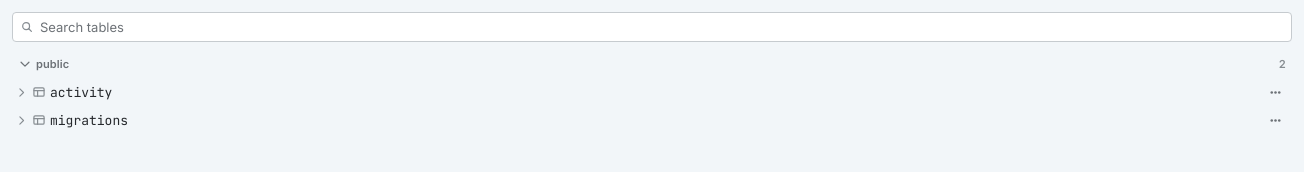
Scenario: TableList › filters tables by a case-insensitive substring
Type "MIGRA" into the search field with test id "tables.search" at (652, 27), box top-left (12, 12), bottom-right (1292, 42)
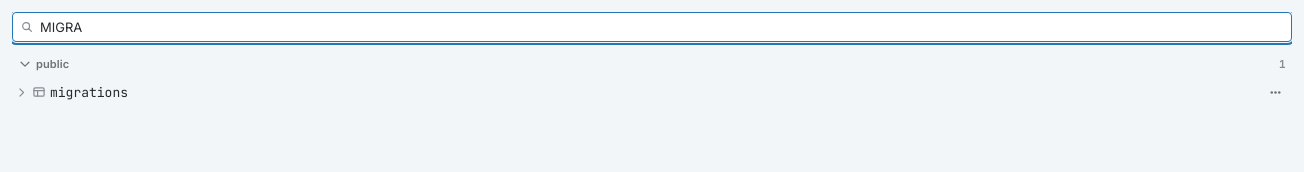
Expected: the button "migrations" is shown, top-left (48, 80), bottom-right (1260, 105)
Now the button "activity" is gone
